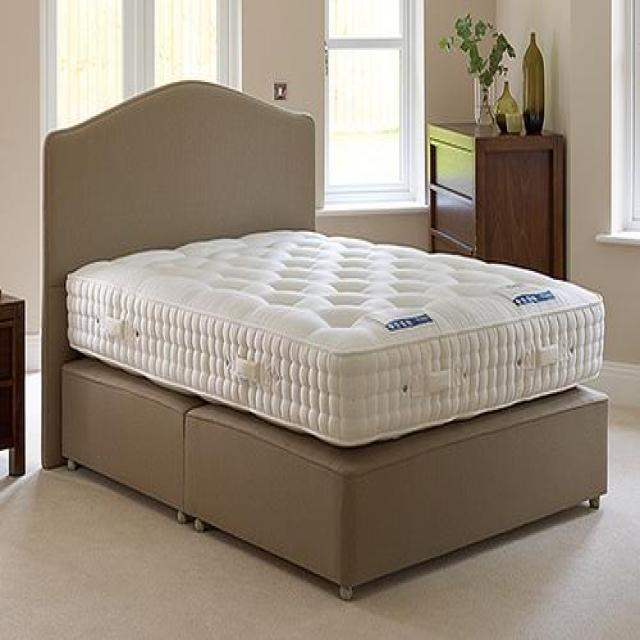bed: (39, 76, 612, 602)
